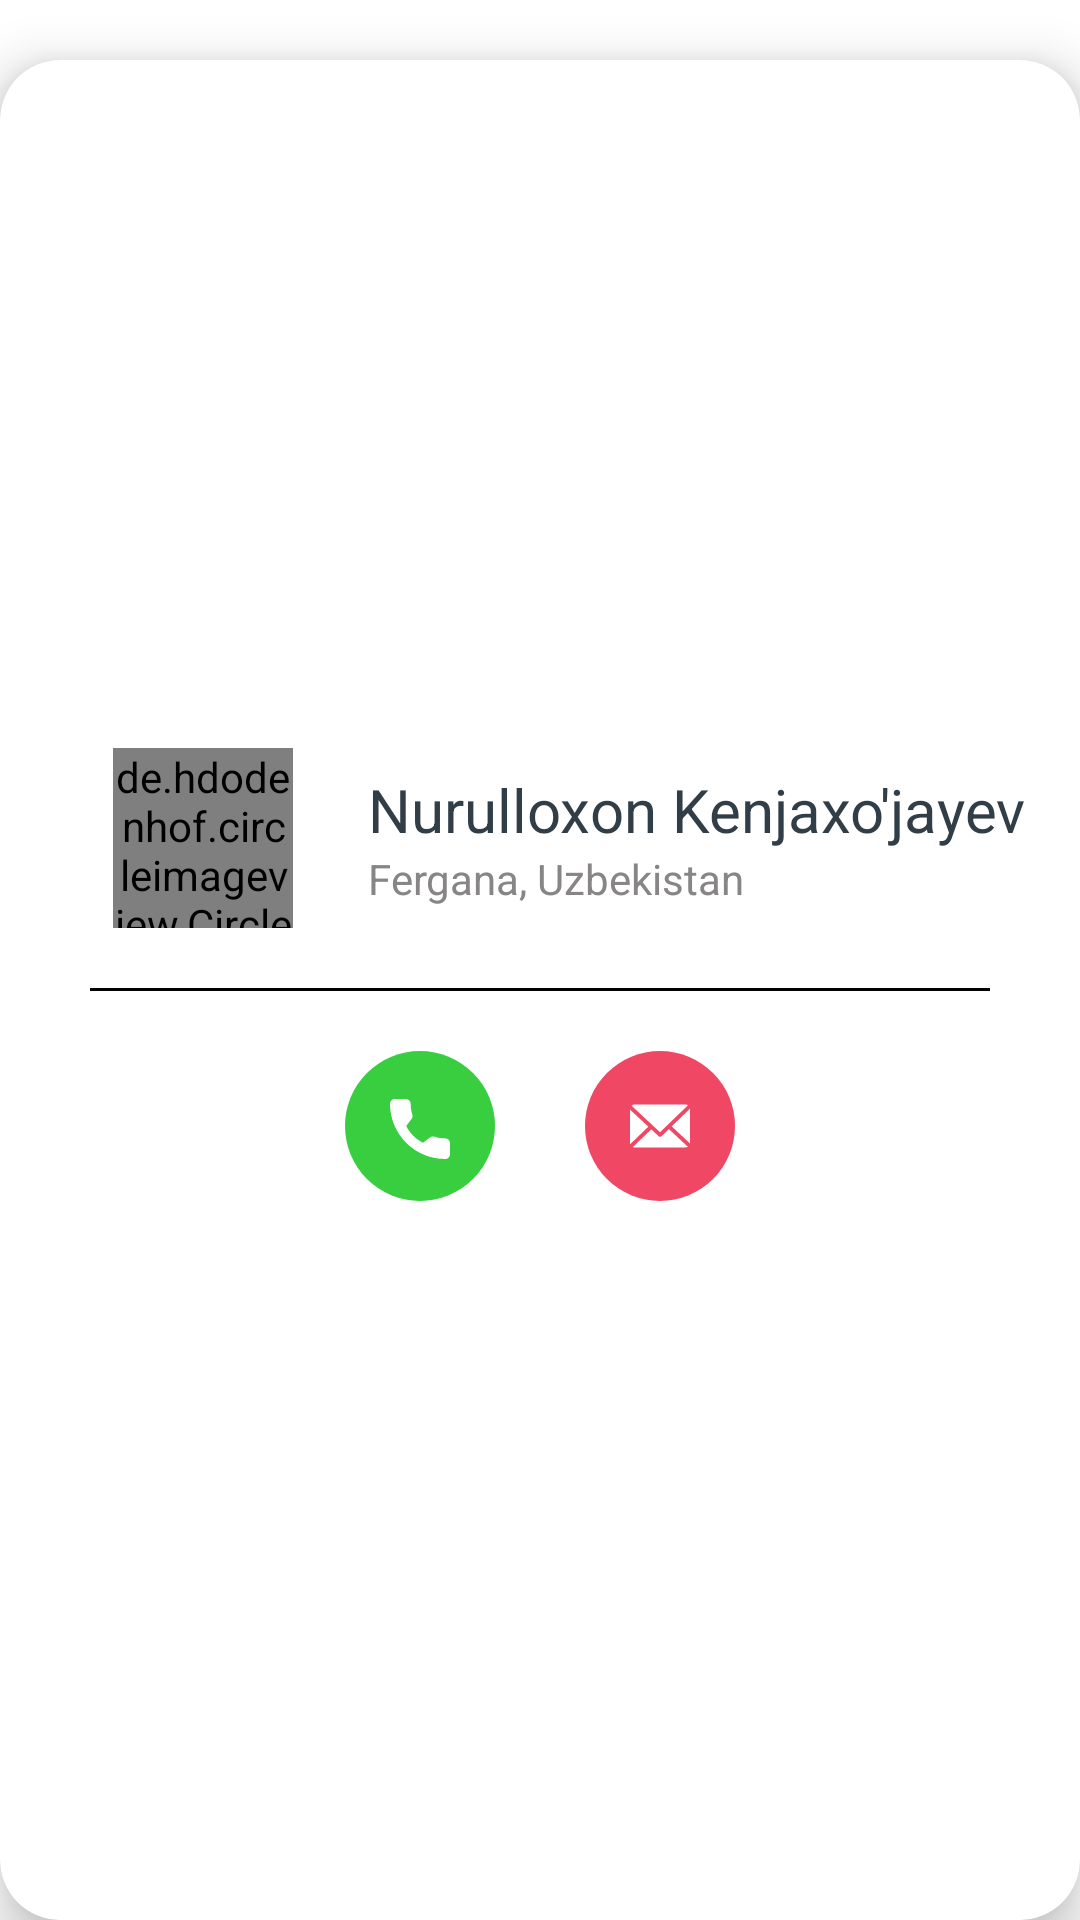

Where to tap for icons on this 1080px×1920px app screen, as [x,y]:
tel: [420,1126]
